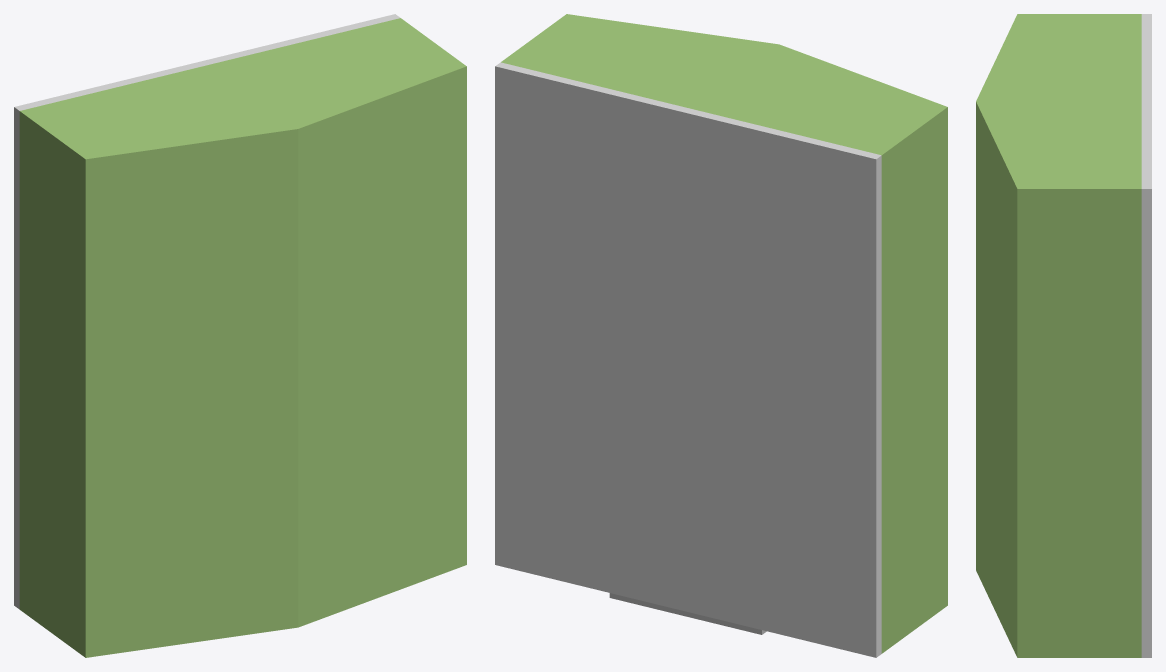
File: hangar_closed.dae
3 views of the same model, side by side, from view 1: azimuth 30°, elevation 25°; view 2: azimuth 150°, elevation 25°; view 3: azimuth 270°, elevation 25° (orthographic). The views are drawn at different scales.
Parts seen in each view (by area): view 1: coords_ME_ID3_MA_Color_F09_, coords_ME_ID11_MA_material_8; view 2: coords_ME_ID11_MA_material_8, coords_ME_ID3_MA_Color_F09_, coords_ME_ID25_MA_material_11; view 3: coords_ME_ID3_MA_Color_F09_, coords_ME_ID11_MA_material_8.
Part boxes in pixels (x1=…): coords_ME_ID3_MA_Color_F09_: x1=19, y1=18, x2=466, y2=657; coords_ME_ID11_MA_material_8: x1=14, y1=14, x2=400, y2=609; coords_ME_ID11_MA_material_8: x1=495, y1=62, x2=881, y2=657; coords_ME_ID3_MA_Color_F09_: x1=501, y1=14, x2=947, y2=653; coords_ME_ID25_MA_material_11: x1=609, y1=593, x2=766, y2=634; coords_ME_ID3_MA_Color_F09_: x1=976, y1=14, x2=1141, y2=657; coords_ME_ID11_MA_material_8: x1=1141, y1=14, x2=1151, y2=657.
Bounding box in the file's own units: 157 × 201 × 66.93.
